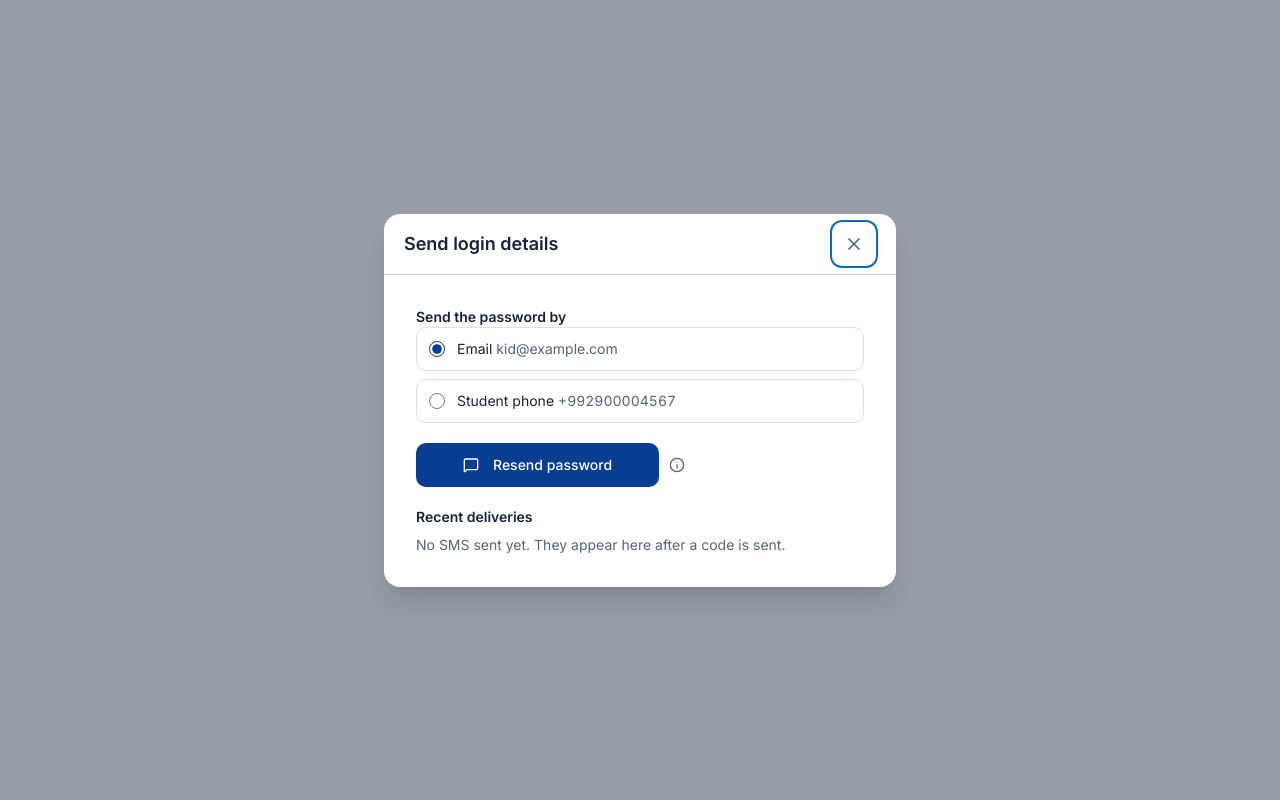
StudentPasswordSmsDialog resend › sends by email when the student has an email
Click the button "Resend password".
click(538, 464)  # box [416,442,659,486]
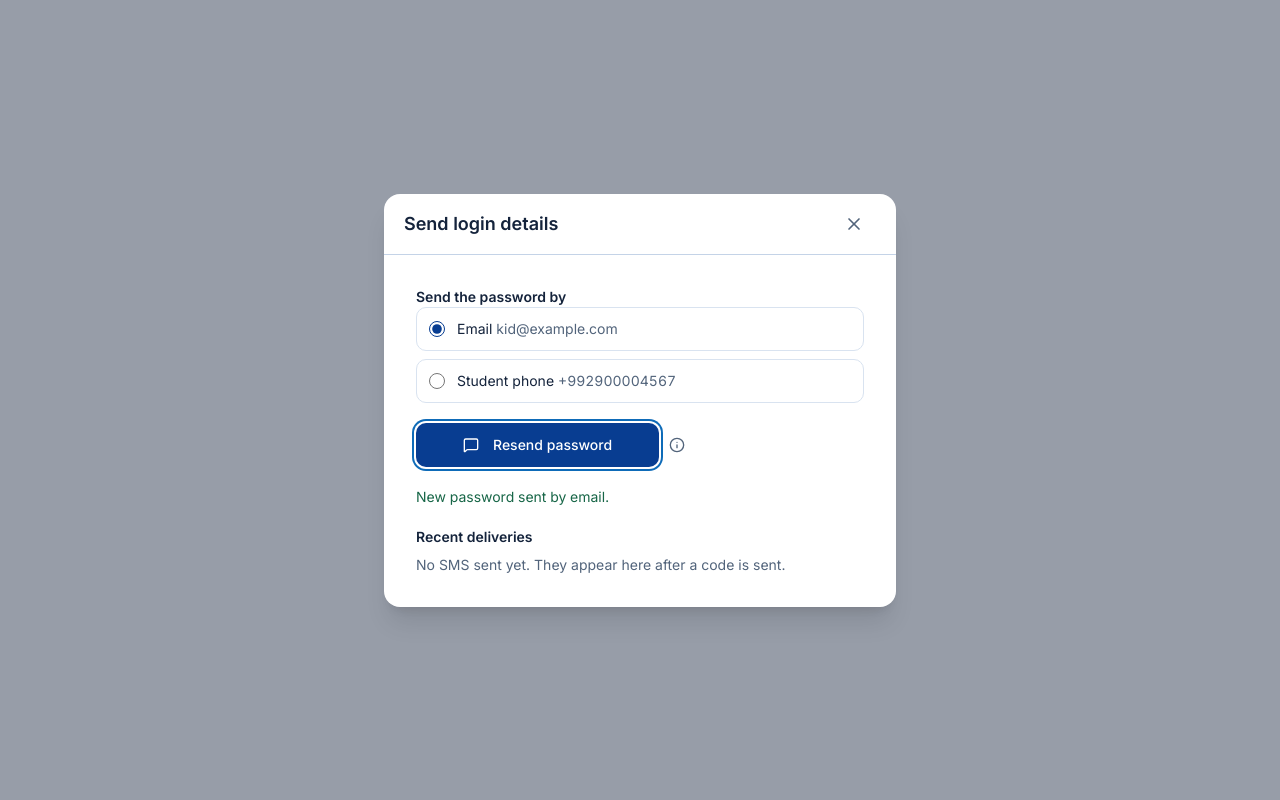
Now the text "New password sent by email." is shown, box [416,488,609,504]
